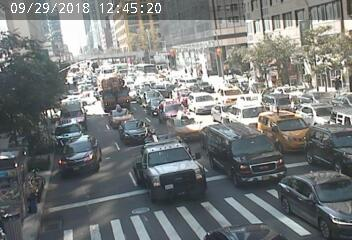car: (293, 172, 345, 213), (150, 137, 188, 191), (215, 130, 262, 165), (162, 102, 199, 130), (267, 115, 303, 142), (316, 129, 351, 156), (65, 144, 99, 171), (101, 72, 129, 104), (120, 120, 150, 140), (61, 99, 88, 120), (219, 80, 245, 101), (307, 101, 329, 124), (54, 126, 84, 141), (188, 93, 212, 110), (235, 103, 257, 118), (148, 93, 165, 111), (269, 95, 291, 108), (112, 106, 129, 121), (181, 75, 200, 87)
